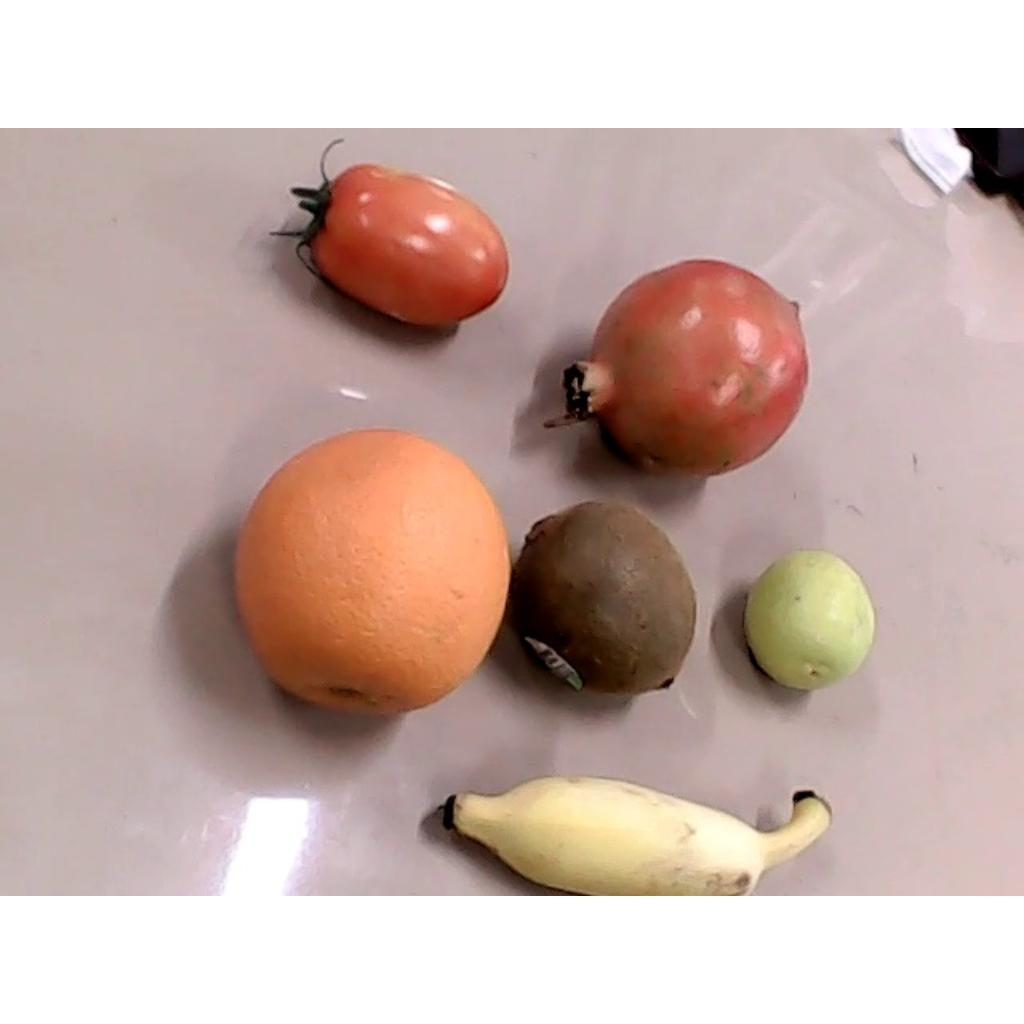kiwi: (507, 499, 697, 699)
lemon: (740, 548, 876, 693)
orange: (234, 429, 510, 716)
pomegranate: (544, 260, 809, 477)
tomato: (270, 140, 510, 329)
